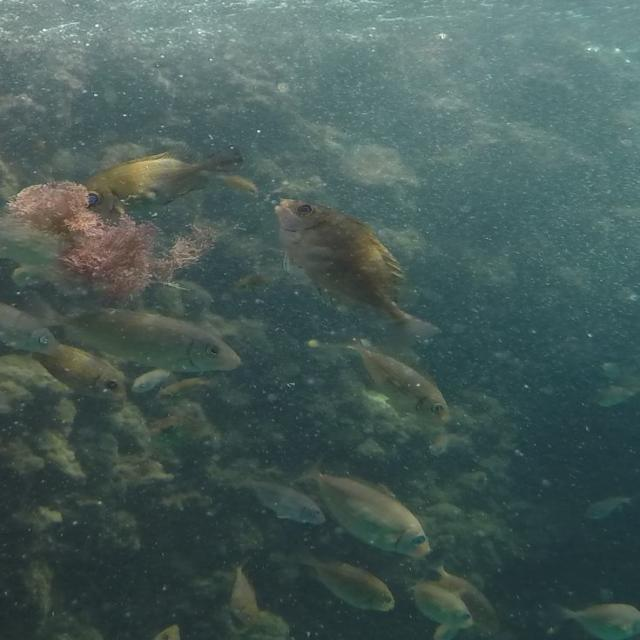Sokar Baligi: (256, 179, 454, 358)
